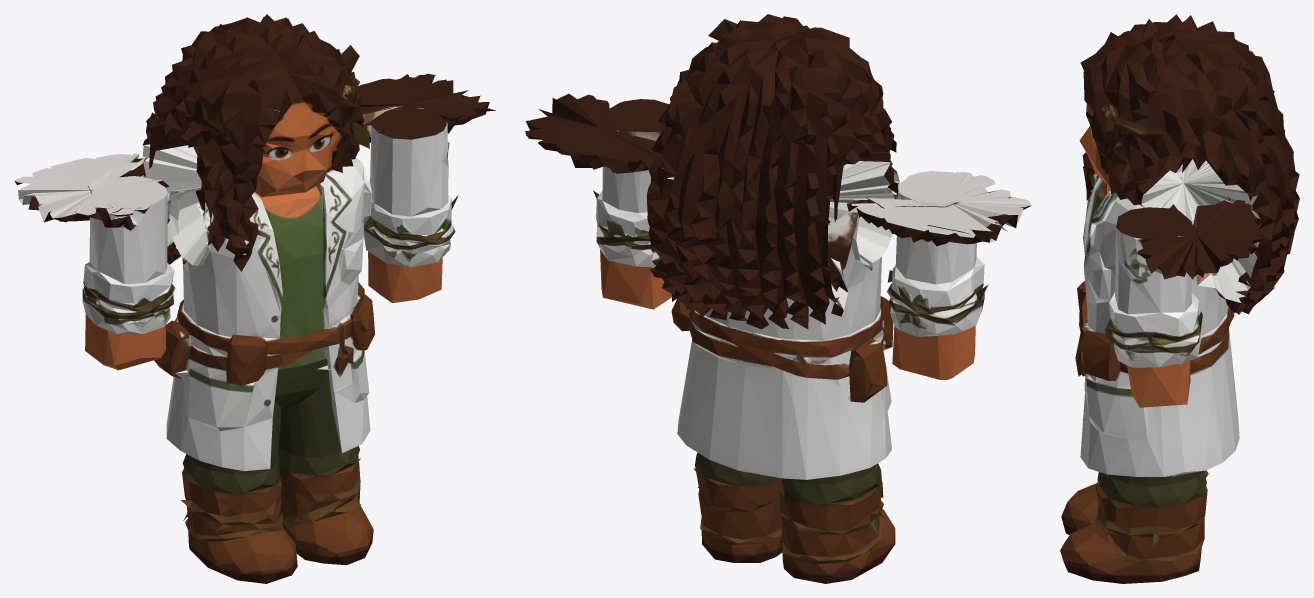
The model's file is Hera_R6_Auto.fbx.
3 renders of one model, left to right at view 1: azimuth 30°, elevation 25°; view 2: azimuth 150°, elevation 25°; view 3: azimuth 270°, elevation 25°, orthographic. The views are drawn at different scales.
Visible parts, largest first — view 1: Torso, Head, RightArm, RightLeg, LeftArm, LeftLeg; view 2: Torso, Head, RightLeg, RightArm, LeftArm, LeftLeg; view 3: Head, LeftLeg, Torso, LeftArm, RightLeg.
Part boxes in pixels (<box>): Torso: <box>142,138,374,460</box>; Head: <box>144,14,369,192</box>; RightArm: <box>14,153,175,370</box>; RightLeg: <box>166,370,298,583</box>; LeftArm: <box>357,73,495,303</box>; LeftLeg: <box>278,350,373,565</box>; Torso: <box>647,160,899,467</box>; Head: <box>648,14,896,208</box>; RightLeg: <box>745,371,895,583</box>; RightArm: <box>846,171,1031,379</box>; LeftArm: <box>525,93,671,309</box>; LeftLeg: <box>677,353,781,562</box>; Head: <box>1079,14,1293,195</box>; LeftLeg: <box>1060,357,1239,583</box>; Torso: <box>1075,152,1299,476</box>; LeftArm: <box>1105,200,1262,407</box>; RightLeg: <box>1061,339,1239,534</box>.
Size of the model in its own units: 5.31 by 5.66 by 2.38.
1 material, 1 textured.
